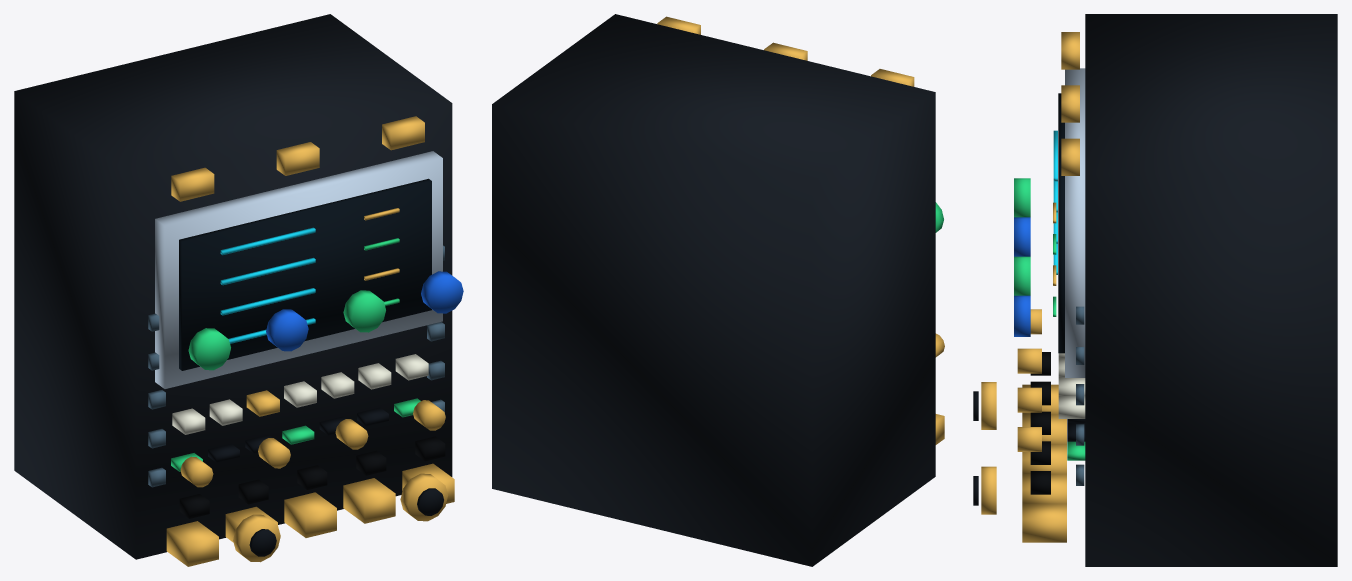
Rendered from 90_L93_InertEnvironmentController.fbx.
The picture shows the model from 3 angles, left to right: view 1: azimuth 30°, elevation 25°; view 2: azimuth 150°, elevation 25°; view 3: azimuth 270°, elevation 25°; orthographic projection. The views are drawn at different scales.
Visible parts, largest first — view 1: L92_InertEnvironmentController_Part_0000, L92_InertEnvironmentController_Part_0002, L92_InertEnvironmentController_Part_0001, L92_InertEnvironmentController_Part_0004, L92_InertEnvironmentController_Part_0006, L92_InertEnvironmentController_Part_0005, L92_InertEnvironmentController_Part_0009, L92_InertEnvironmentController_Part_0010, L92_InertEnvironmentController_Part_0003, L92_InertEnvironmentController_Part_0008, L92_InertEnvironmentController_Part_0007, L92_InertEnvironmentController_Part_0012 (+3 smaller); view 2: L92_InertEnvironmentController_Part_0000, L92_InertEnvironmentController_Part_0004; view 3: L92_InertEnvironmentController_Part_0000, L92_InertEnvironmentController_Part_0004, L92_InertEnvironmentController_Part_0001, L92_InertEnvironmentController_Part_0005, L92_InertEnvironmentController_Part_0009, L92_InertEnvironmentController_Part_0002, L92_InertEnvironmentController_Part_0010, L92_InertEnvironmentController_Part_0006, L92_InertEnvironmentController_Part_0008, L92_InertEnvironmentController_Part_0014, L92_InertEnvironmentController_Part_0012, L92_InertEnvironmentController_Part_0003.
Part boxes in pixels (x1,y1,x2,y2): L92_InertEnvironmentController_Part_0000: (14,14,452,559); L92_InertEnvironmentController_Part_0002: (179,178,431,370); L92_InertEnvironmentController_Part_0001: (155,151,442,388); L92_InertEnvironmentController_Part_0004: (166,116,454,566); L92_InertEnvironmentController_Part_0006: (172,354,428,434); L92_InertEnvironmentController_Part_0005: (171,238,420,471); L92_InertEnvironmentController_Part_0009: (179,436,445,518); L92_InertEnvironmentController_Part_0010: (266,271,463,351); L92_InertEnvironmentController_Part_0003: (220,227,315,343); L92_InertEnvironmentController_Part_0008: (148,245,444,487); L92_InertEnvironmentController_Part_0007: (208,407,388,462); L92_InertEnvironmentController_Part_0012: (233,514,280,562); L92_InertEnvironmentController_Part_0000: (492,14,935,566); L92_InertEnvironmentController_Part_0004: (657,16,944,444); L92_InertEnvironmentController_Part_0000: (1085,14,1337,566); L92_InertEnvironmentController_Part_0004: (1017,32,1079,542); L92_InertEnvironmentController_Part_0001: (1065,68,1085,377); L92_InertEnvironmentController_Part_0005: (1014,178,1085,460); L92_InertEnvironmentController_Part_0009: (1030,352,1050,494); L92_InertEnvironmentController_Part_0002: (1058,93,1064,353); L92_InertEnvironmentController_Part_0010: (1014,217,1030,336); L92_InertEnvironmentController_Part_0006: (1058,353,1085,418); L92_InertEnvironmentController_Part_0008: (1076,306,1084,485); L92_InertEnvironmentController_Part_0014: (981,466,996,514); L92_InertEnvironmentController_Part_0012: (981,382,996,429); L92_InertEnvironmentController_Part_0003: (1053,130,1057,274).
Size of the model in its own units: 102 by 117 by 98.2.
